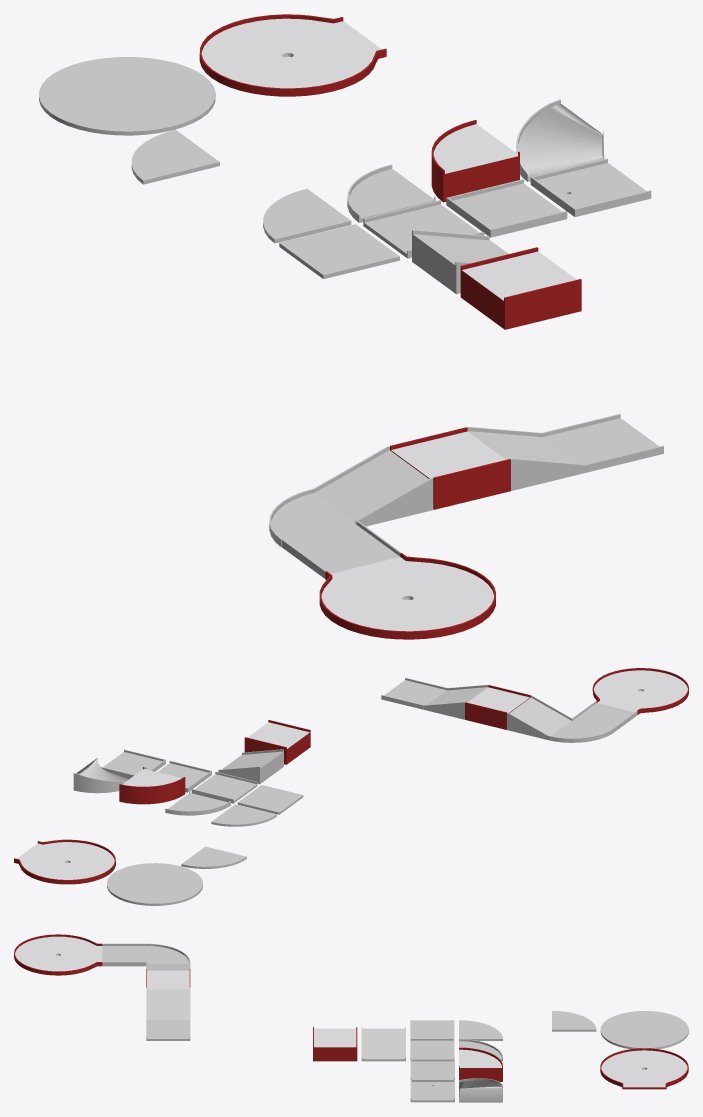
Rendered from MidgetGolf_ConstructionKit_test01.fbx.
The picture shows the model from 3 angles, top to bottom: view 1: azimuth 30°, elevation 25°; view 2: azimuth 150°, elevation 25°; view 3: azimuth 270°, elevation 25°; orthographic projection. The views are drawn at different scales.
Visible parts, largest first — view 1: Cylinder.6, Cylinder.8, Cylinder.1, Cube.5, Cube.9, Cube.8, Cylinder.4, Cylinder.5, Cube.3, Cube, Cube.6, Cube.1 (+8 smaller); view 2: Cylinder.6, Cylinder.8, Cylinder.1, Cylinder.4, Cube.5, Cube.9, Cube.8, Cube.4, Cube.2, Cube.6, Cylinder.5, Cube.1 (+8 smaller); view 3: Cylinder.6, Cylinder.8, Cylinder.1, Cube.5, Cube.4, Cube.7, Cylinder.4, Cube.10, Cube, Cylinder.5, Cube.6, Cube.3 (+8 smaller).
Part boxes in pixels (x1,y1,x2,y2): Cylinder.6: (199,14,386,96); Cylinder.8: (319,553,495,639); Cylinder.1: (39,57,215,135); Cube.5: (460,247,581,329); Cube.9: (314,446,433,526); Cube.8: (390,427,510,509); Cylinder.4: (431,120,519,202); Cylinder.5: (516,99,604,181); Cube.3: (446,179,567,237); Cube: (530,158,651,216); Cube.6: (543,414,663,472); Cube.1: (279,224,399,279); Cylinder.6: (14,839,115,884); Cylinder.8: (592,668,688,714); Cylinder.1: (107,863,202,905); Cylinder.4: (119,767,185,804); Cube.5: (244,720,310,764); Cube.9: (507,695,572,740); Cube.8: (465,685,530,729); Cube.4: (218,749,283,784); Cube.2: (191,772,257,803); Cube.6: (381,677,446,709); Cylinder.5: (73,758,129,793); Cube.1: (237,785,303,814); Cylinder.6: (600,1048,688,1089); Cylinder.8: (14,934,102,975); Cylinder.1: (600,1011,688,1049); Cube.5: (313,1027,357,1061); Cube.4: (361,1027,405,1061); Cube.7: (146,987,190,1020); Cylinder.4: (459,1047,502,1081); Cube.10: (102,943,146,966); Cube: (410,1079,454,1102); Cylinder.5: (459,1078,502,1102); Cube.6: (146,1018,190,1040); Cube.3: (410,1059,454,1079).
Size of the model in its own units: 879 by 39.5 by 1526.
